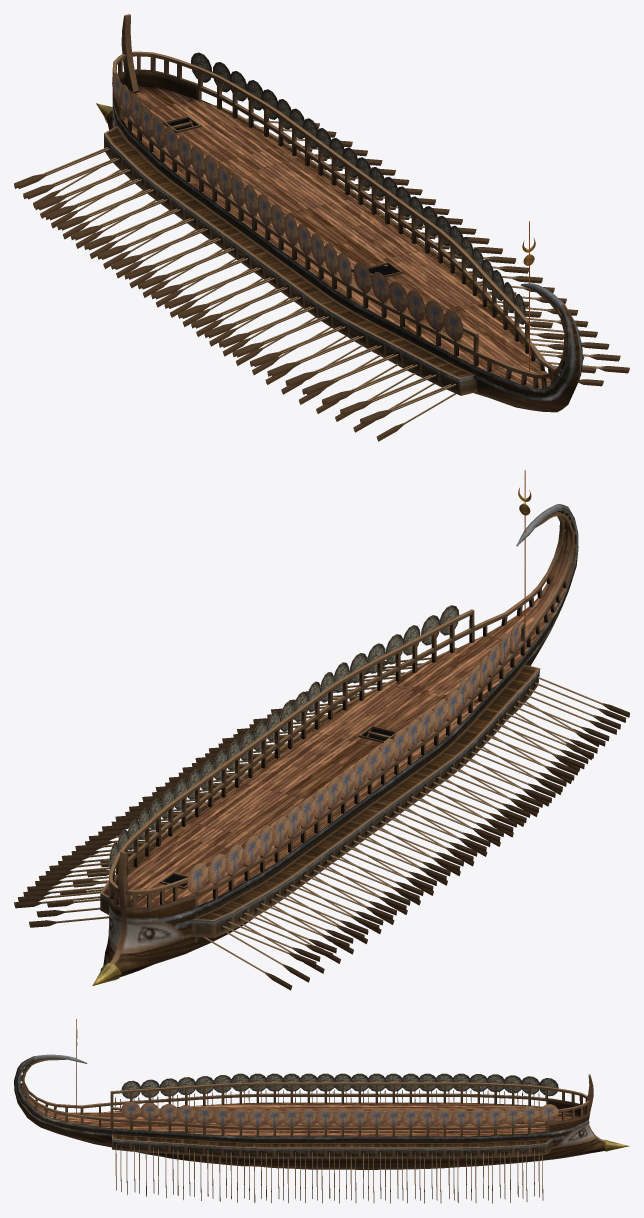
Rendered from cart_ship_ram.glb.
3 renders of one model, top to bottom at view 1: azimuth 30°, elevation 25°; view 2: azimuth 150°, elevation 25°; view 3: azimuth 270°, elevation 25°, orthographic. The views are drawn at different scales.
Visible parts, largest first — view 1: cart_ship_ram_part0; view 2: cart_ship_ram_part0; view 3: cart_ship_ram_part0, cart_ship_ram_part156, cart_ship_ram_part198, cart_ship_ram_part166, cart_ship_ram_part170, cart_ship_ram_part164, cart_ship_ram_part152, cart_ship_ram_part200, cart_ship_ram_part154, cart_ship_ram_part162, cart_ship_ram_part160, cart_ship_ram_part174 (+13 smaller).
Part boxes in pixels (x1,y1,x2,y2): cart_ship_ram_part0: [96, 14, 582, 412]; cart_ship_ram_part0: [92, 504, 578, 985]; cart_ship_ram_part0: [14, 1054, 629, 1169]; cart_ship_ram_part156: [264, 1109, 284, 1126]; cart_ship_ram_part198: [485, 1108, 505, 1126]; cart_ship_ram_part166: [121, 1101, 140, 1119]; cart_ship_ram_part170: [176, 1105, 195, 1123]; cart_ship_ram_part164: [140, 1102, 159, 1120]; cart_ship_ram_part152: [194, 1106, 213, 1124]; cart_ship_ram_part200: [539, 1104, 558, 1122]; cart_ship_ram_part154: [212, 1107, 231, 1125]; cart_ship_ram_part162: [159, 1104, 177, 1122]; cart_ship_ram_part160: [230, 1108, 248, 1126]; cart_ship_ram_part174: [315, 1109, 333, 1126].
Bounding box in the file's own units: 2.69 × 1.85 × 7.
Materials: 5 (5 with a texture image).
